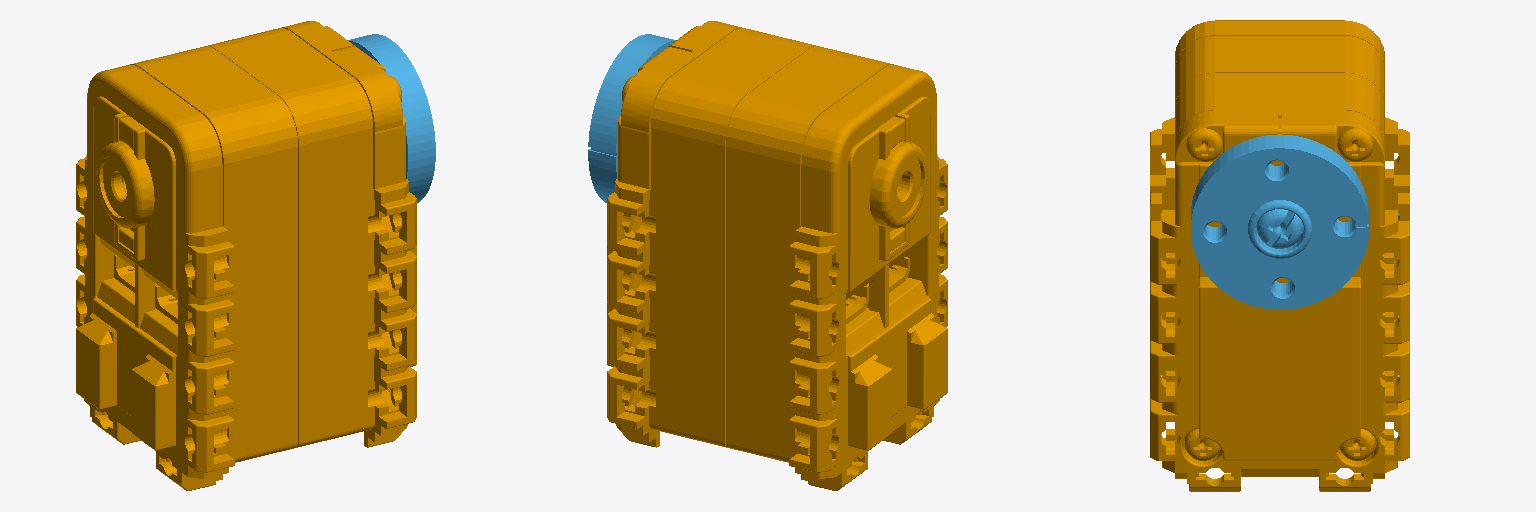
The robot description file, URDF, robot "dynamixel_arm":
<?xml version="1.0"?>
<robot name="dynamixel_arm">
  <link name="base_link">
    <visual>
        <geometry>
            <mesh filename="package://dynamixel_arm/urdf/mesh/ax12_box.dae"/>    
      </geometry>
    <origin rpy="1.57075 0 0" xyz="0 0 0"/>
    </visual>
  </link>

  <link name="wheel">
    <visual>
        <geometry>
            <mesh filename="package://dynamixel_arm/urdf/mesh/ax12_wheel.dae"/>
        </geometry>
        <origin xyz="0 -.01675 .01575"/>
    </visual>
  </link>

  <joint name="joint_1" type="fixed">
      <parent link="base_link"/>
      <!--<axis xyz="1 0 0"/>
      <limit effort="1000.0" lower="-1.57" upper="1.57" velocity="1.00"/>
      --><child link="wheel"/>
  </joint>
</robot>

--- Facts derived from the render (not from the file) ---
3 views of the same robot in one strip: view 1: azimuth 30°, elevation 25°; view 2: azimuth 150°, elevation 25°; view 3: azimuth 270°, elevation 25° (orthographic).
Robot: dynamixel_arm — 2 links, 1 joints (1 fixed); root link base_link; default pose: every joint at zero.
Visible links, largest first — view 1: base_link, wheel; view 2: base_link, wheel; view 3: base_link, wheel.
Boxes of the visible links, box(x1,y1,x2,y2) form: base_link: box(76, 21, 416, 490); wheel: box(348, 34, 435, 202); base_link: box(607, 21, 947, 490); wheel: box(588, 34, 675, 202); base_link: box(1150, 20, 1409, 491); wheel: box(1191, 135, 1368, 309).
Bounding box of the posed robot: 0.0408 × 0.032 × 0.05 m (x, y, z).
2 mesh visuals loaded from 2 distinct referenced files (2 Collada DAE).